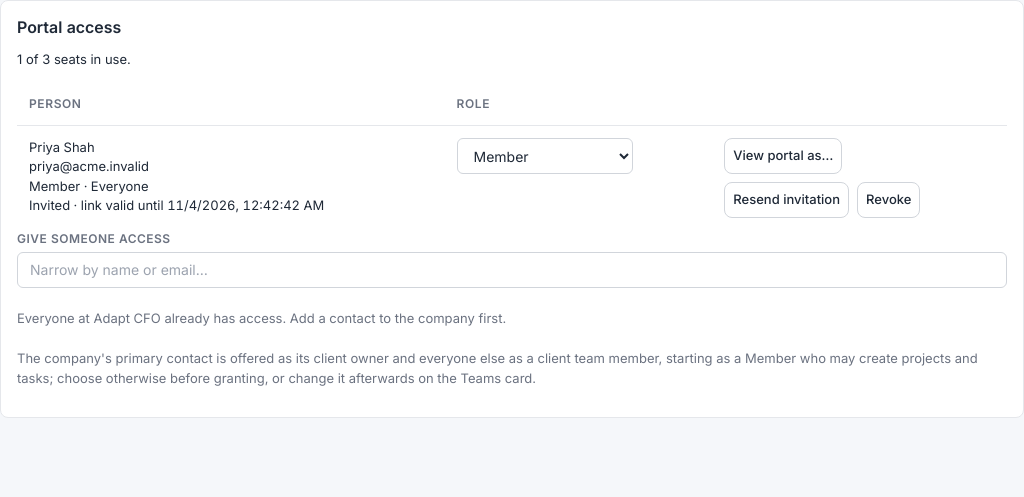
Scenario: Resend invitation, on a portal-access row › shows the server's refusal in its own words
The image size is (1024, 497).
What coordinates should you click on to do the following:
click the button "Resend invitation"
I would click on:
 (787, 200)
Its box is [724,182,849,218].
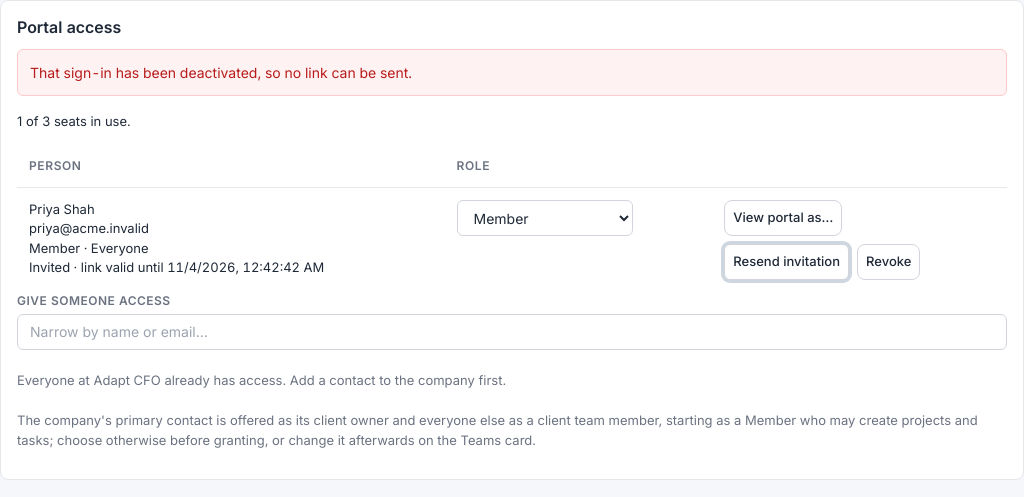
Check: the text "That sign-in has been deactivated, so no link can be sent." is shown, box [30,64,412,81]
